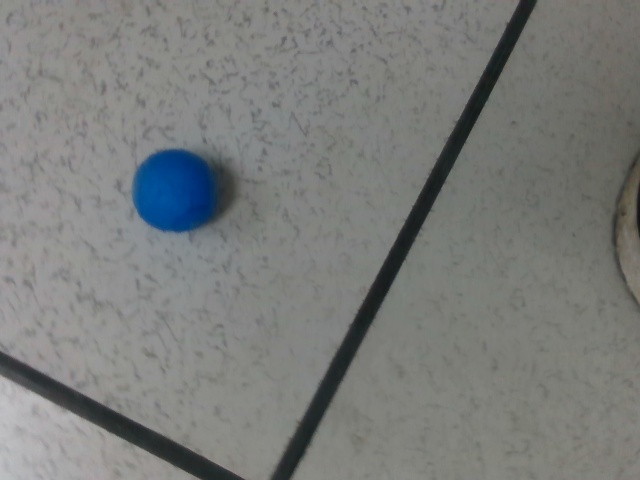blueball: (127, 148, 222, 235)
